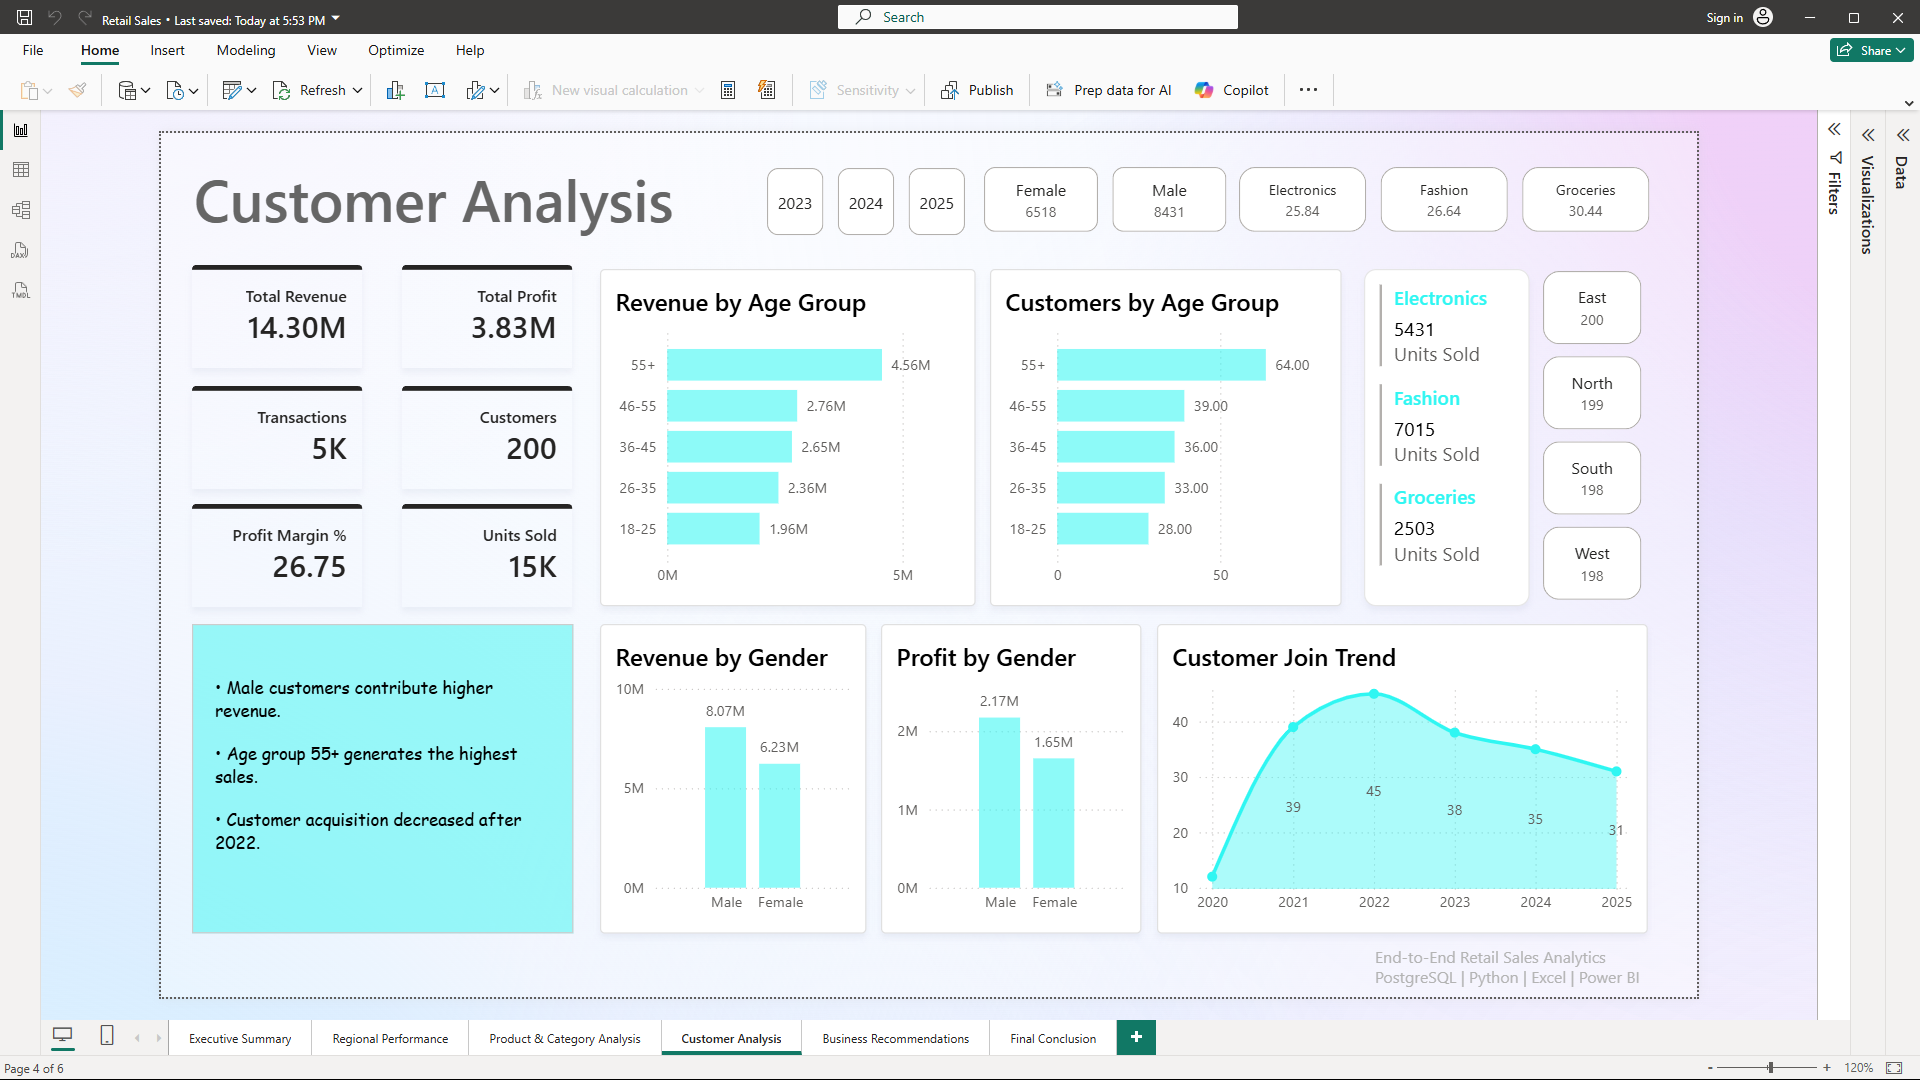

What the dashboard file says about the page in this screenshot:
{"tool":"powerbi","page":{"name":"Customer Analysis","canvas":[1280,720],"ordinal":3},"visuals":[{"type":"cardVisual","fields":{"Data":["_Measures.Total Revenue"]},"box":[25.6,110,142.2,85.6],"z":0},{"type":"cardVisual","fields":{"Data":["_Measures.Total Profit"]},"box":[201.1,110,142.2,85.6],"z":1000},{"type":"cardVisual","fields":{"Data":["_Measures.Transactions"]},"box":[25.6,211.1,142.2,85.6],"z":2000},{"type":"cardVisual","fields":{"Data":["_Measures.Customers"]},"box":[201.1,211.1,142.2,85.6],"z":3000},{"type":"cardVisual","fields":{"Data":["_Measures.Profit Margin %"]},"box":[25.6,308.9,142.2,85.6],"z":4000},{"type":"barChart","title":"Revenue by Age Group","fields":{"Y":["_Measures.Total Revenue"],"Category":["retail_business_table.Age Group"]},"box":[365.6,113.3,313.3,281.1],"z":5000},{"type":"barChart","title":"Customers by Age Group","fields":{"Category":["retail_business_table.Age Group"],"Y":["_Measures.Customers"]},"box":[691.1,113.3,293.3,281.1],"z":6000},{"type":"columnChart","title":"Revenue by Gender","fields":{"Category":["retail_business_table.gender"],"Y":["_Measures.Total Revenue"]},"box":[365.6,408.9,222.2,257.8],"z":7000},{"type":"advancedSlicerVisual","fields":{"Values":["retail_business_table.region"]},"box":[1146.7,110,92.2,284.4],"z":8000},{"type":"advancedSlicerVisual","fields":{"Values":["retail_business_table.category"]},"box":[893.3,13.3,354.4,84.4],"z":9000},{"type":"advancedSlicerVisual","fields":{"Values":["retail_business_table.gender"]},"box":[681.1,13.3,212.2,84.4],"z":10000},{"type":"multiRowCard","fields":{"Values":["retail_business_table.category","_Measures.Units Sold"]},"box":[1002.2,113.3,137.8,281.1],"z":11000},{"type":"textbox","box":[22.2,17.8,420,80],"z":12000},{"type":"shape","box":[25.6,408.9,317.8,257.8],"z":13000},{"type":"cardVisual","fields":{"Data":["_Measures.Units Sold"]},"box":[201.1,308.9,142.2,85.6],"z":14000},{"type":"textbox","box":[40,447.8,288.9,180],"z":15000},{"type":"columnChart","title":"Profit by Gender","fields":{"Y":["_Measures.Total Profit"],"Category":["retail_business_table.gender"]},"box":[600,408.9,216.7,257.8],"z":16000},{"type":"stackedAreaChart","title":"Customer Join Trend","fields":{"Y":["_Measures.Customers"],"Category":["retail_business_table.joindate.Variation.Date Hierarchy.Year"]},"box":[830,408.9,408.9,257.8],"z":17000},{"type":"advancedSlicerVisual","fields":{"Values":["DateTable.Year"]},"box":[500,14.4,176.7,86.7],"z":18000},{"type":"textbox","box":[1006.7,672.2,232.2,47.8],"z":19000}]}

Visuals, with their boxes on the page's 1280x720 design canvas (x1, y1, x2, y2). These are canvas units, not pixel positions in the 1920x1080 screenshot, which may show the page scaled, cropped or inside an application window:
cardVisual - _Measures.Total Revenue: bbox(26, 110, 168, 196)
cardVisual - _Measures.Total Profit: bbox(201, 110, 343, 196)
cardVisual - _Measures.Transactions: bbox(26, 211, 168, 297)
cardVisual - _Measures.Customers: bbox(201, 211, 343, 297)
cardVisual - _Measures.Profit Margin %: bbox(26, 309, 168, 394)
"Revenue by Age Group" barChart: bbox(366, 113, 679, 394)
"Customers by Age Group" barChart: bbox(691, 113, 984, 394)
"Revenue by Gender" columnChart: bbox(366, 409, 588, 667)
advancedSlicerVisual - retail_business_table.region: bbox(1147, 110, 1239, 394)
advancedSlicerVisual - retail_business_table.category: bbox(893, 13, 1248, 98)
advancedSlicerVisual - retail_business_table.gender: bbox(681, 13, 893, 98)
multiRowCard - retail_business_table.category x _Measures.Units Sold: bbox(1002, 113, 1140, 394)
textbox: bbox(22, 18, 442, 98)
shape: bbox(26, 409, 343, 667)
cardVisual - _Measures.Units Sold: bbox(201, 309, 343, 394)
textbox: bbox(40, 448, 329, 628)
"Profit by Gender" columnChart: bbox(600, 409, 817, 667)
"Customer Join Trend" stackedAreaChart: bbox(830, 409, 1239, 667)
advancedSlicerVisual - DateTable.Year: bbox(500, 14, 677, 101)
textbox: bbox(1007, 672, 1239, 720)
